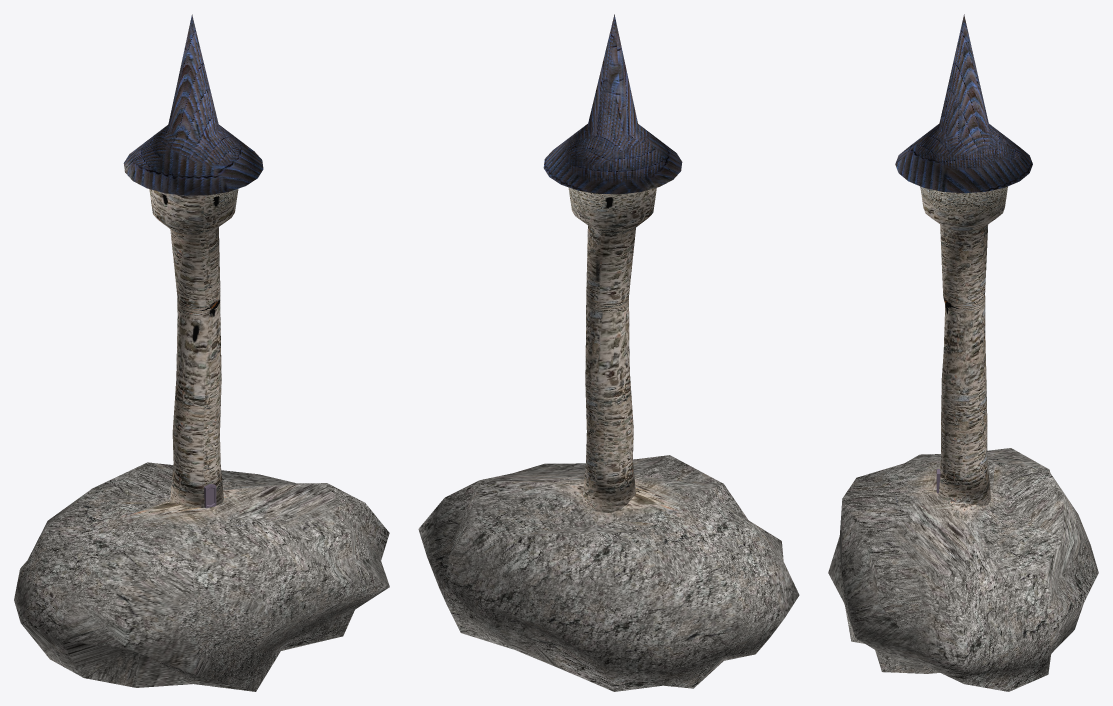
File: tower.fbx
3 renders of one model, left to right at view 1: azimuth 30°, elevation 25°; view 2: azimuth 150°, elevation 25°; view 3: azimuth 270°, elevation 25°, orthographic. The views are drawn at different scales.
Parts seen in each view (by area): view 1: Cube; view 2: Cube; view 3: Cube.
Part boxes in pixels (x1,y1,x2,y2): Cube: (14, 14, 389, 691); Cube: (418, 14, 799, 691); Cube: (828, 14, 1098, 691).
Bounding box in the file's own units: 685 × 1171 × 444.
1 material, 1 textured.
